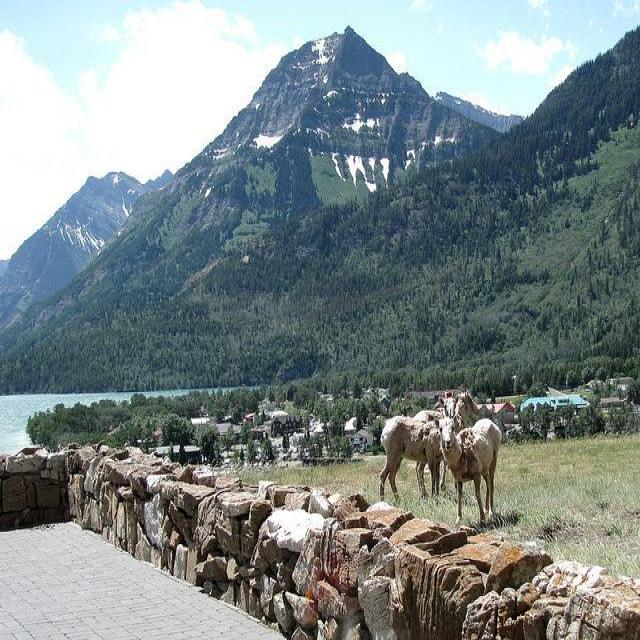Sheep: (434, 413, 502, 524), (378, 417, 442, 507)
